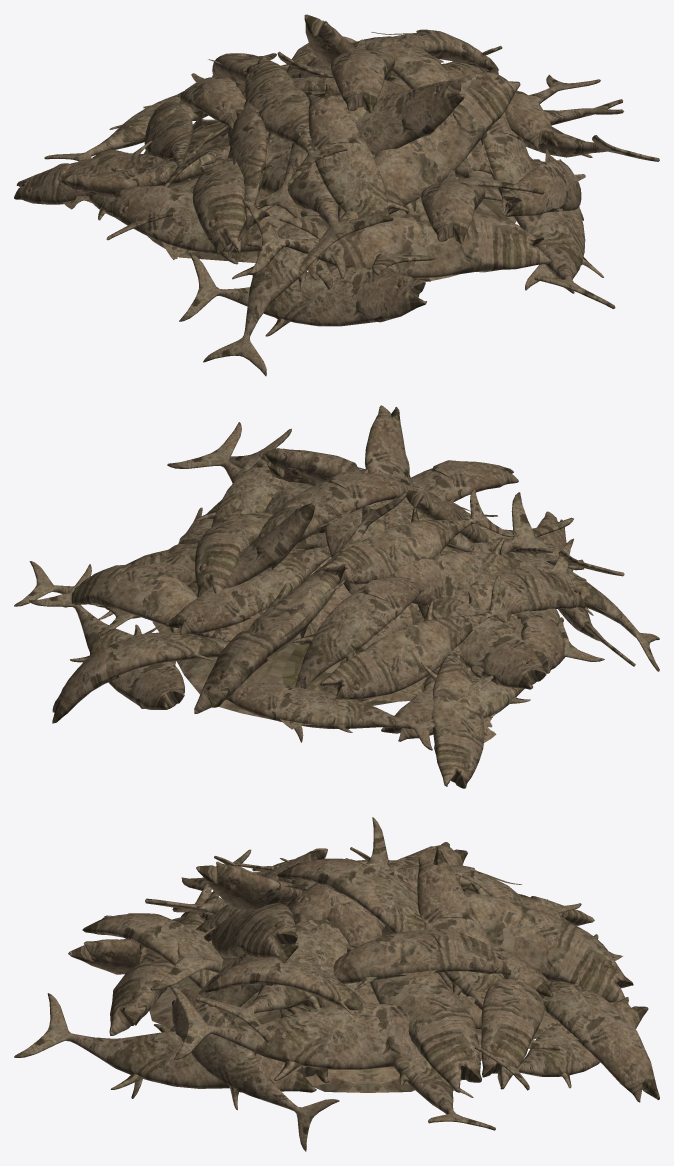
File: Fish_Pile02.fbx
3 views of the same model, one above another, from view 1: azimuth 30°, elevation 25°; view 2: azimuth 150°, elevation 25°; view 3: azimuth 270°, elevation 25° (orthographic).
Parts seen in each view (by area): view 1: Fish_Pile02; view 2: Fish_Pile02; view 3: Fish_Pile02.
Boxes of the visible parts, x1,y1,x2,y2 form: Fish_Pile02: (14,14,659,376); Fish_Pile02: (14,405,659,788); Fish_Pile02: (14,817,659,1151).
Bounding box in the file's own units: 206 × 79.52 × 215.
